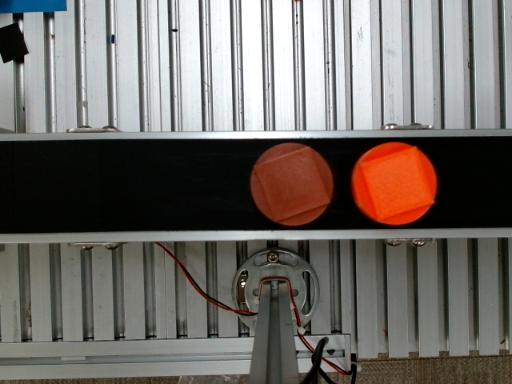Square: (254, 145, 330, 221), (360, 146, 436, 220)
